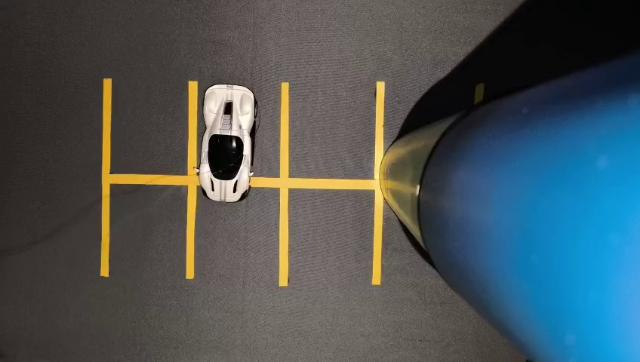toy_car: (185, 73, 274, 215)
